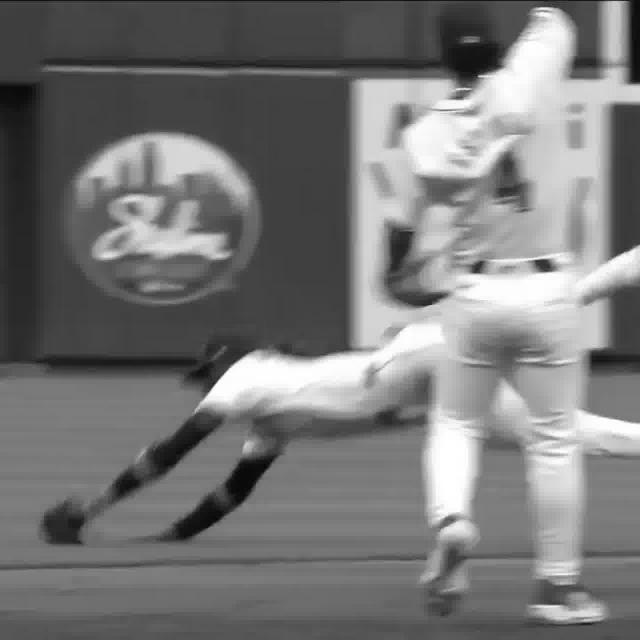baseball_glove: (37, 494, 95, 547)
shoe: (420, 515, 476, 626), (518, 582, 612, 626)
